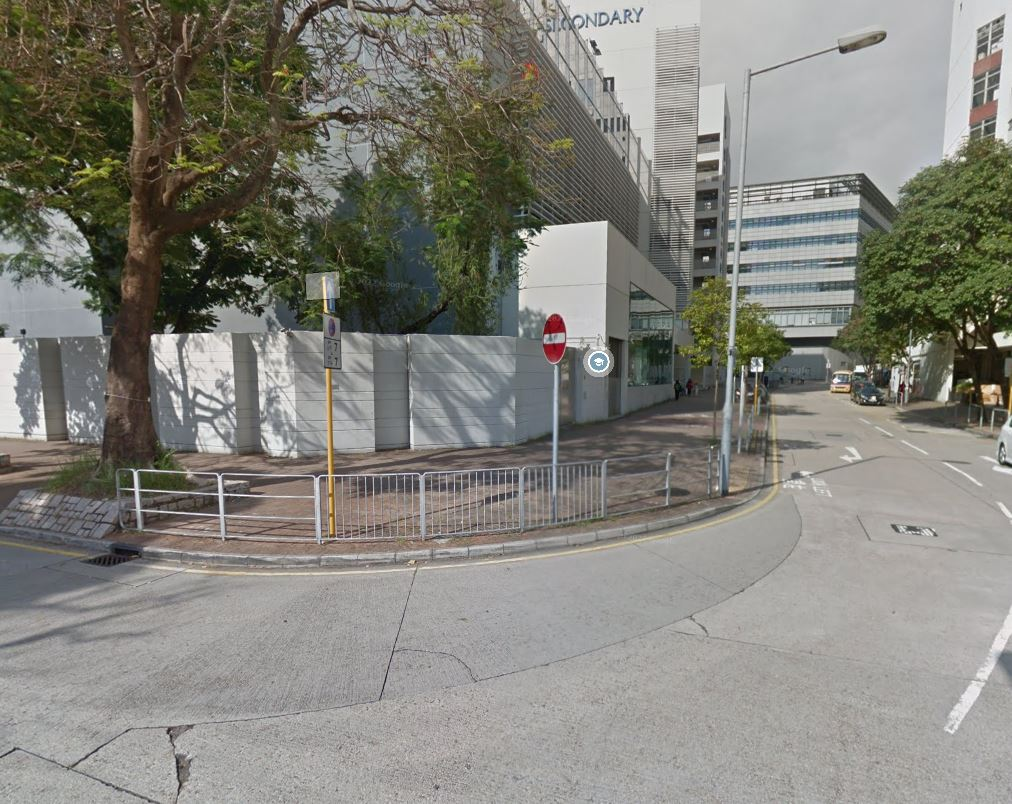No Enter: (540, 313, 569, 365)
Start Of No Stopping: (323, 315, 342, 369)
